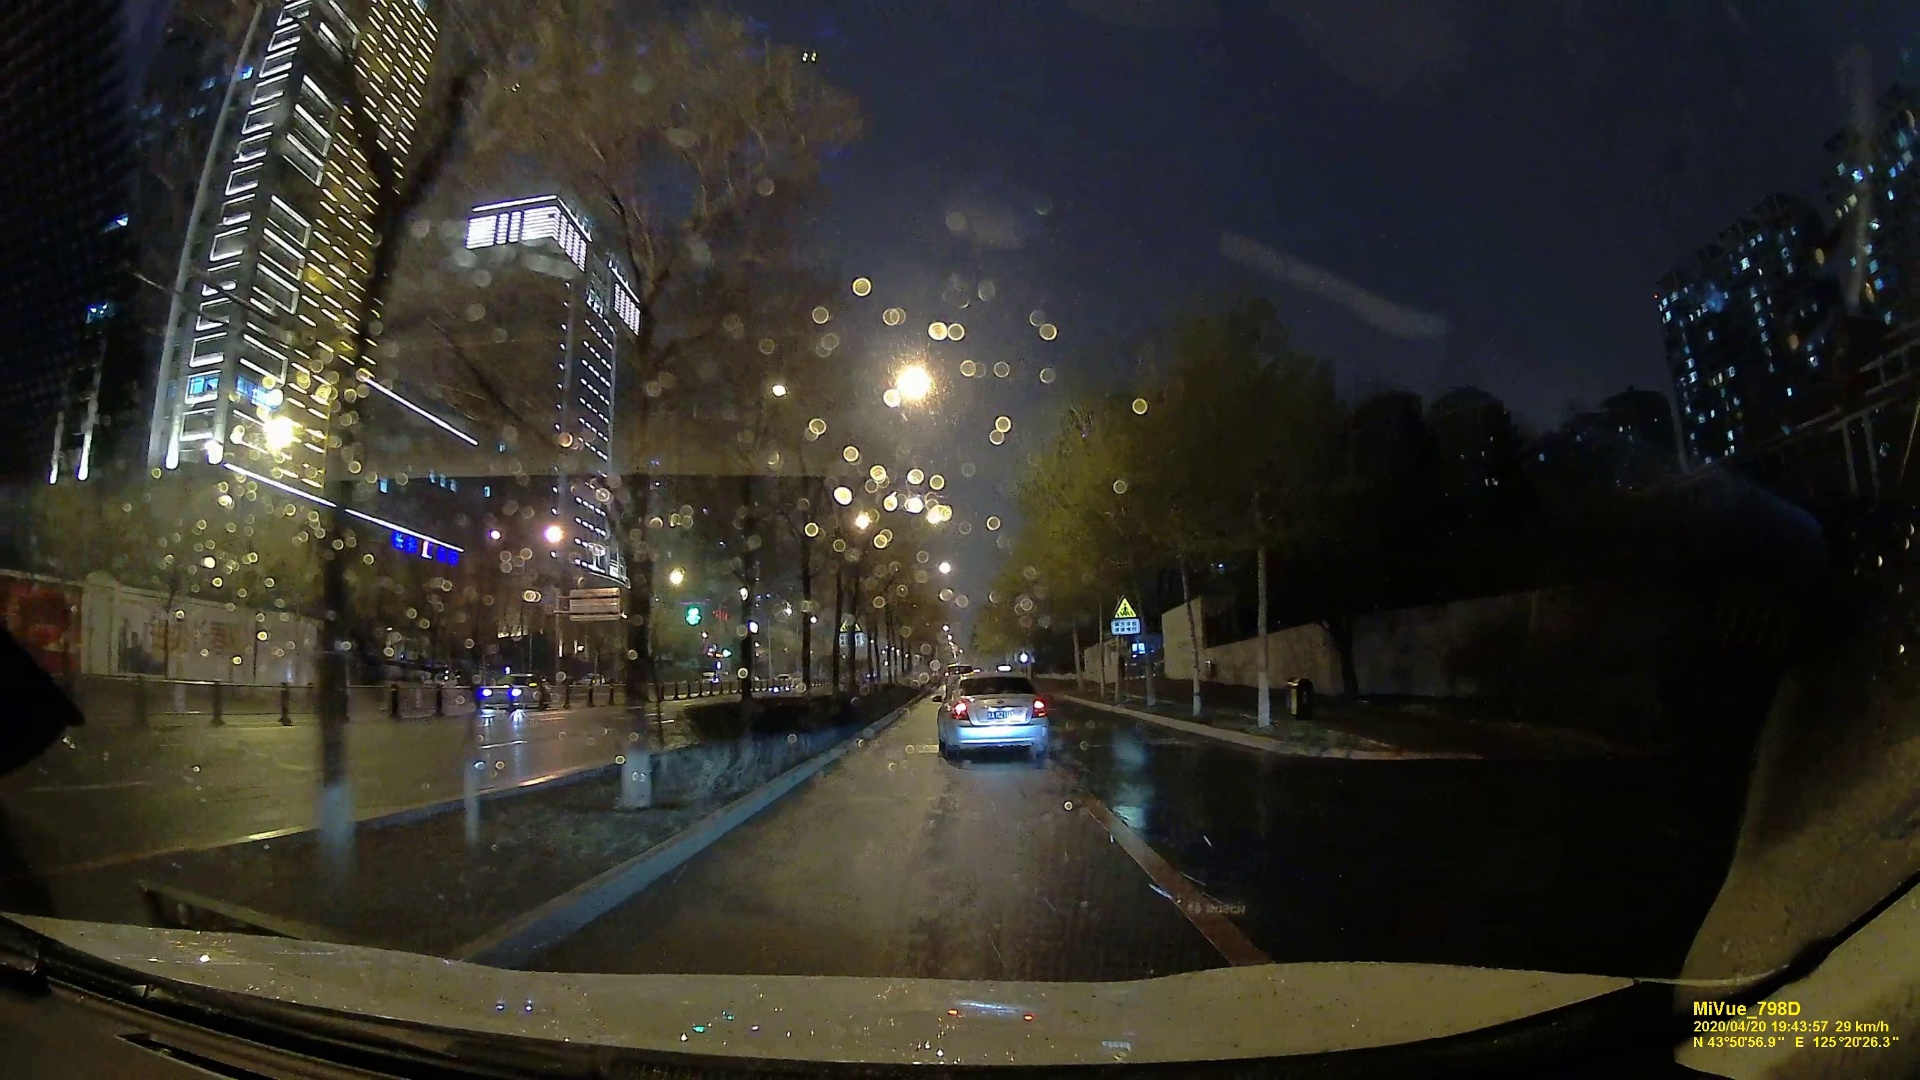traffic_sign: (1109, 597, 1143, 636)
vehicle: (935, 671, 1054, 765), (477, 674, 549, 708)
